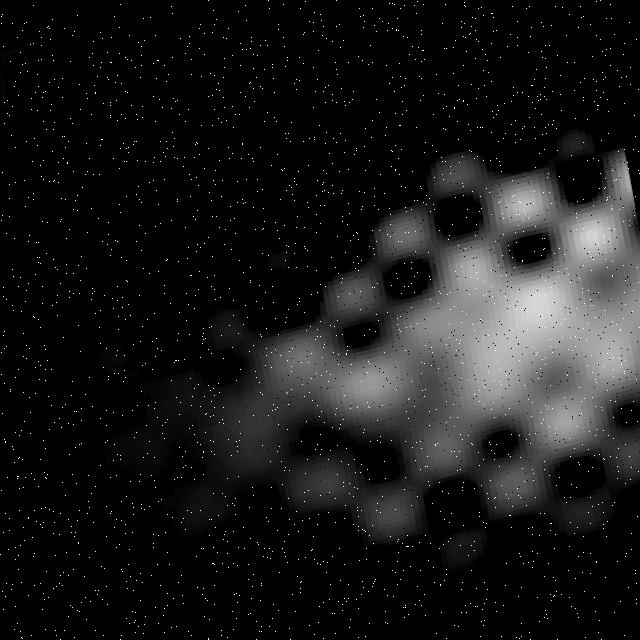person: (180, 99, 640, 549)
